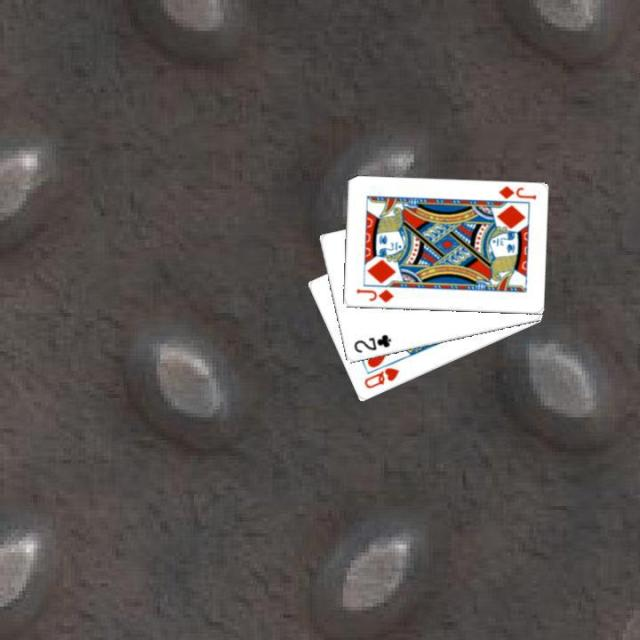2C: (349, 330, 393, 354)
JD: (353, 284, 395, 305), (494, 182, 538, 202)
QH: (360, 364, 401, 391)
